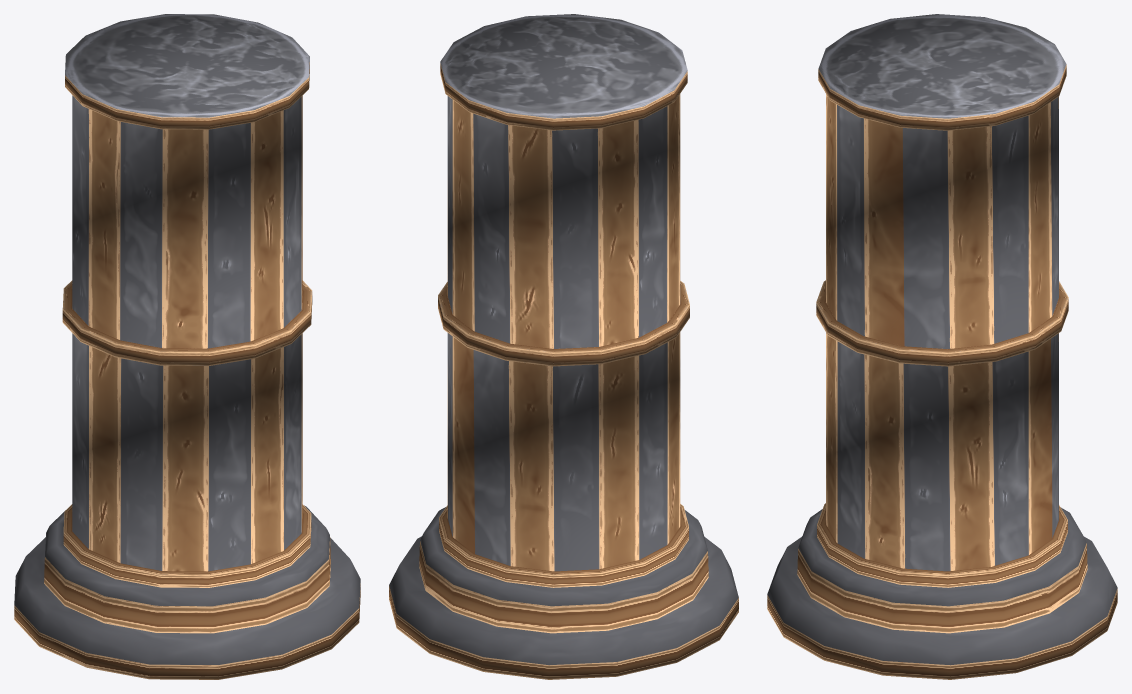
File: Columna_v1.gltf
3 views of the same model, side by side, from view 1: azimuth 30°, elevation 25°; view 2: azimuth 150°, elevation 25°; view 3: azimuth 270°, elevation 25° (orthographic).
Visible parts, largest first — view 1: Column_v1; view 2: Column_v1; view 3: Column_v1.
Part boxes in pixels (box(x1,y1,x2,y2)): Column_v1: box(14, 14, 360, 679); Column_v1: box(389, 14, 738, 679); Column_v1: box(767, 14, 1117, 679).
Size of the model in its own units: 2.35 by 4 by 2.35.
Materials: 1 (1 with a texture image).
